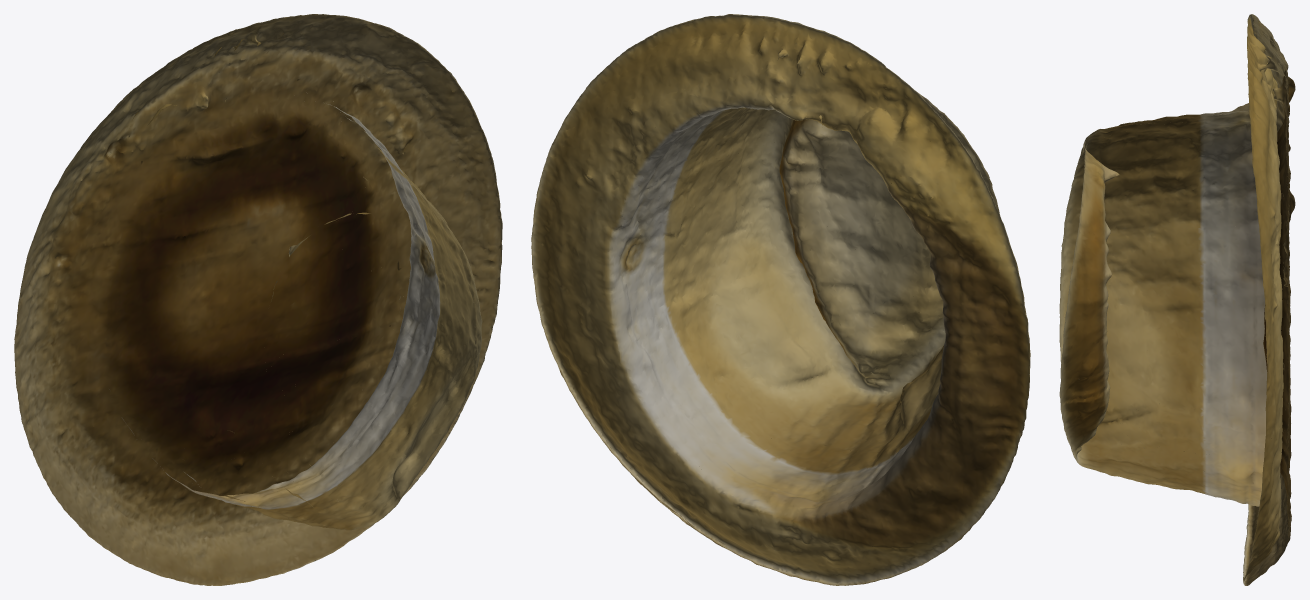
Rendered from hat.glb.
The picture shows the model from 3 angles, left to right: view 1: azimuth 30°, elevation 25°; view 2: azimuth 150°, elevation 25°; view 3: azimuth 270°, elevation 25°; orthographic projection. The views are drawn at different scales.
Bounding box in the file's own units: 0.928 × 1 × 0.4079.
